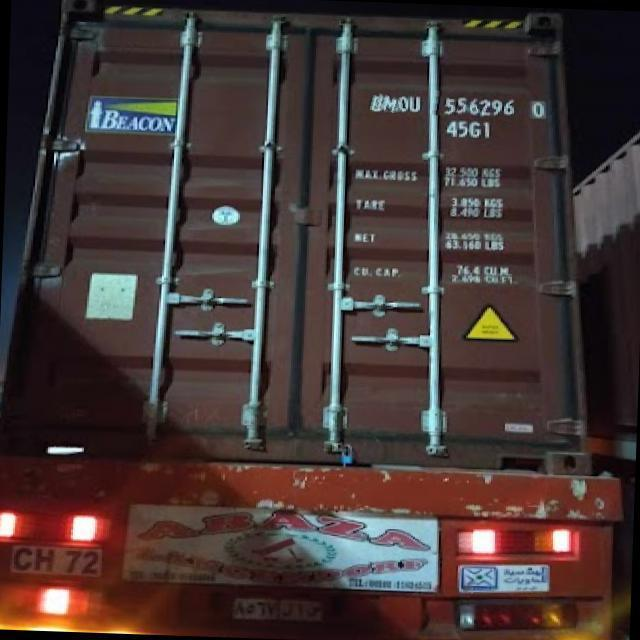ISO: (444, 120, 494, 141)
container_number: (377, 92, 547, 119)
